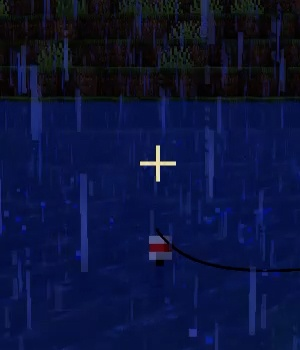up: (144, 227, 178, 270)
